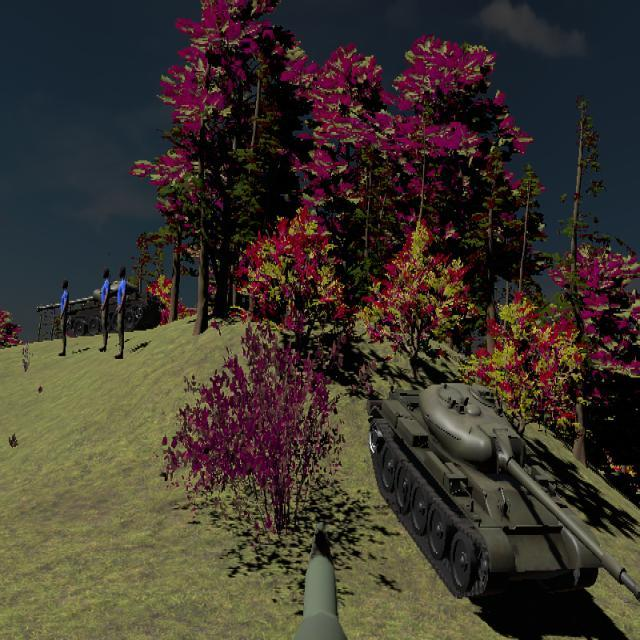Human: (115, 265, 127, 361), (99, 266, 111, 354), (100, 266, 111, 357), (59, 277, 70, 357)
Tank: (367, 380, 640, 614), (35, 281, 163, 336)
